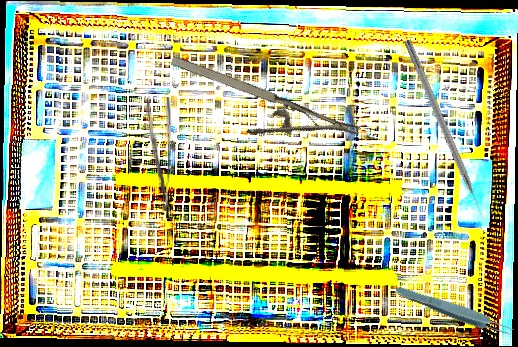Dressing Forceps: (144, 96, 172, 212)
Hook Surgical: (402, 38, 488, 224)
Needle Holder: (157, 49, 362, 174)
Tissue Forceps: (392, 282, 517, 341)
